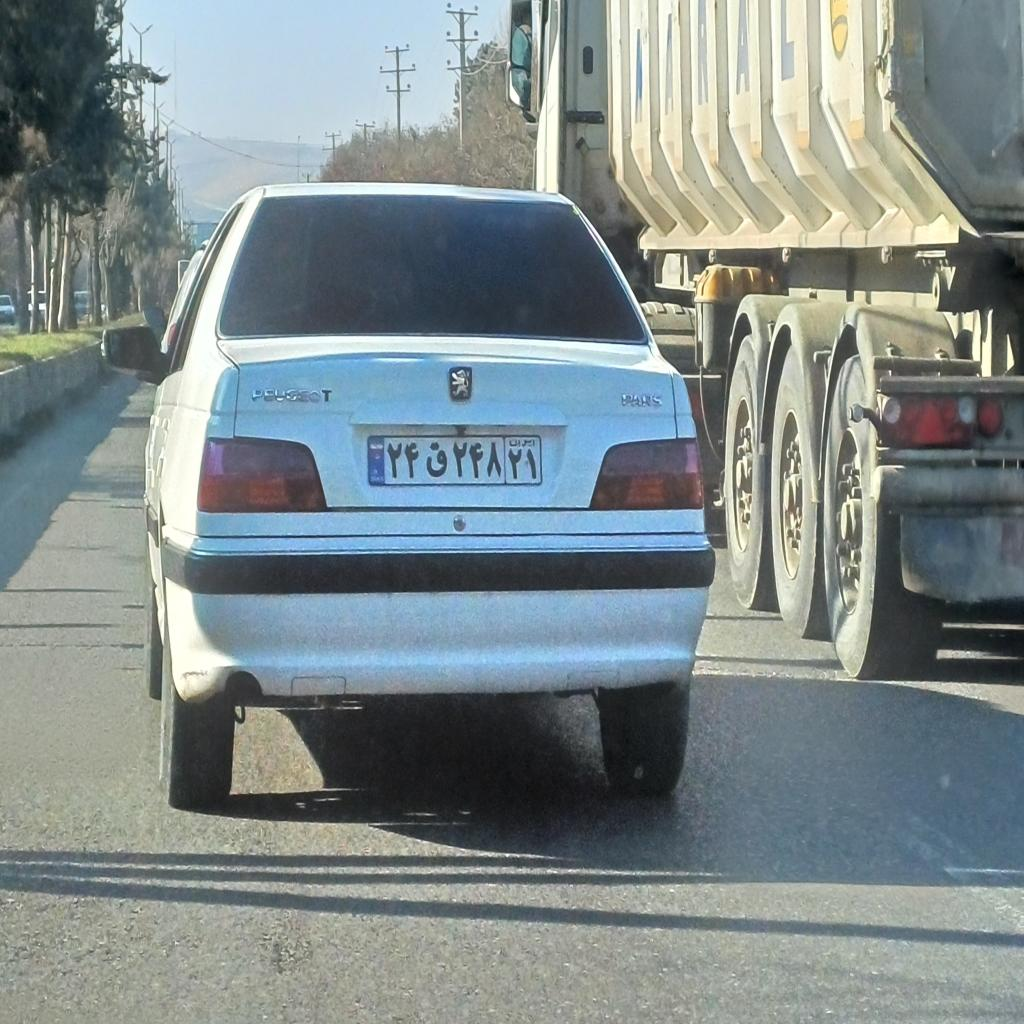Plates: (367, 434, 542, 486)
